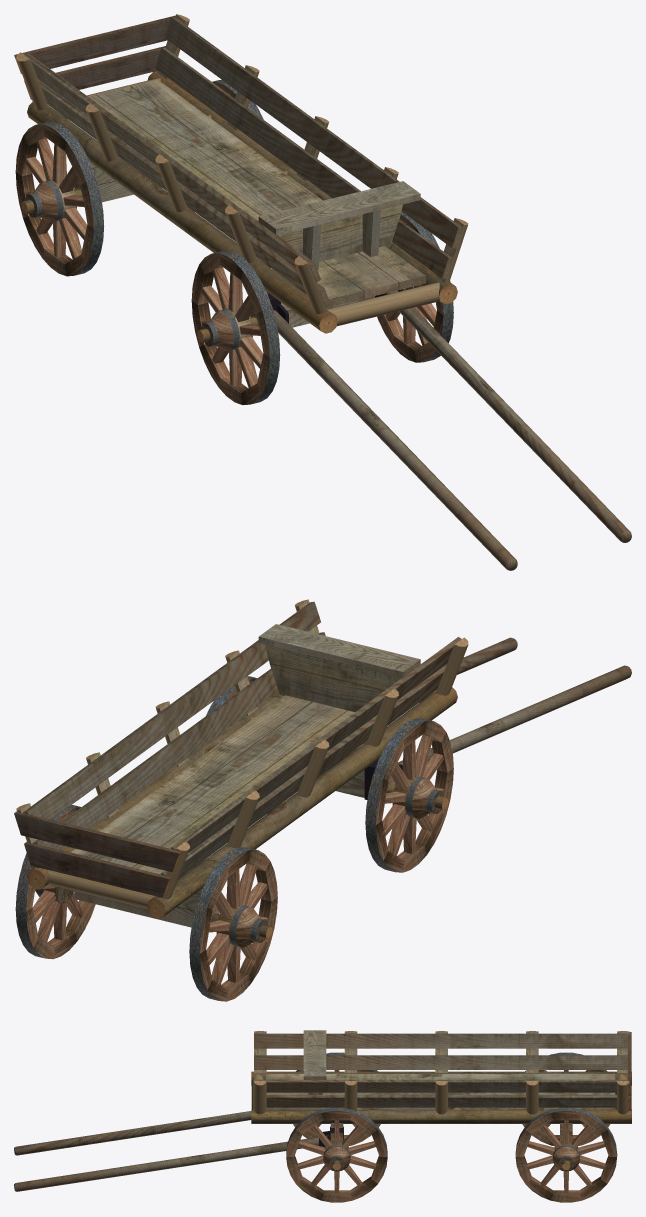
File: cart.FBX
The picture shows the model from 3 angles, top to bottom: view 1: azimuth 30°, elevation 25°; view 2: azimuth 150°, elevation 25°; view 3: azimuth 270°, elevation 25°; orthographic projection. The views are drawn at different scales.
Visible parts, largest first — view 1: Wagon, Wheel03, Wheel01, Wheel02; view 2: Wagon, Wheel03, Wheel01, Wheel04; view 3: Wagon, Wheel02, Wheel04, Wheel03, Wheel01.
Part boxes in pixels (x1,y1,x2,y2): Wagon: (14, 14, 631, 570); Wheel03: (15, 121, 104, 276); Wheel01: (191, 250, 280, 404); Wheel02: (377, 211, 453, 362); Wagon: (14, 599, 631, 939); Wheel03: (189, 847, 277, 1001); Wheel01: (365, 718, 453, 872); Wheel04: (15, 805, 95, 959); Wagon: (14, 1030, 631, 1191); Wheel02: (286, 1107, 387, 1202); Wheel04: (515, 1107, 617, 1202); Wheel03: (522, 1052, 615, 1145); Wheel01: (293, 1052, 380, 1145).
Bounding box in the file's own units: 203 × 146 × 681.
